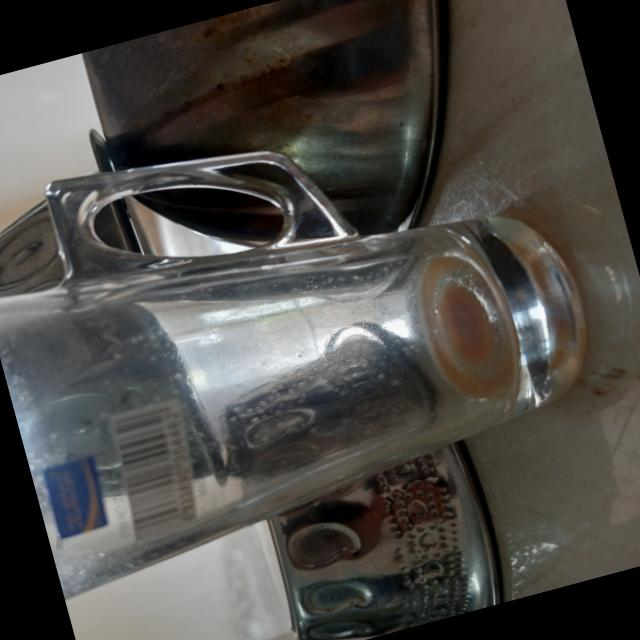glass-VX4N: (0, 55, 623, 603)
